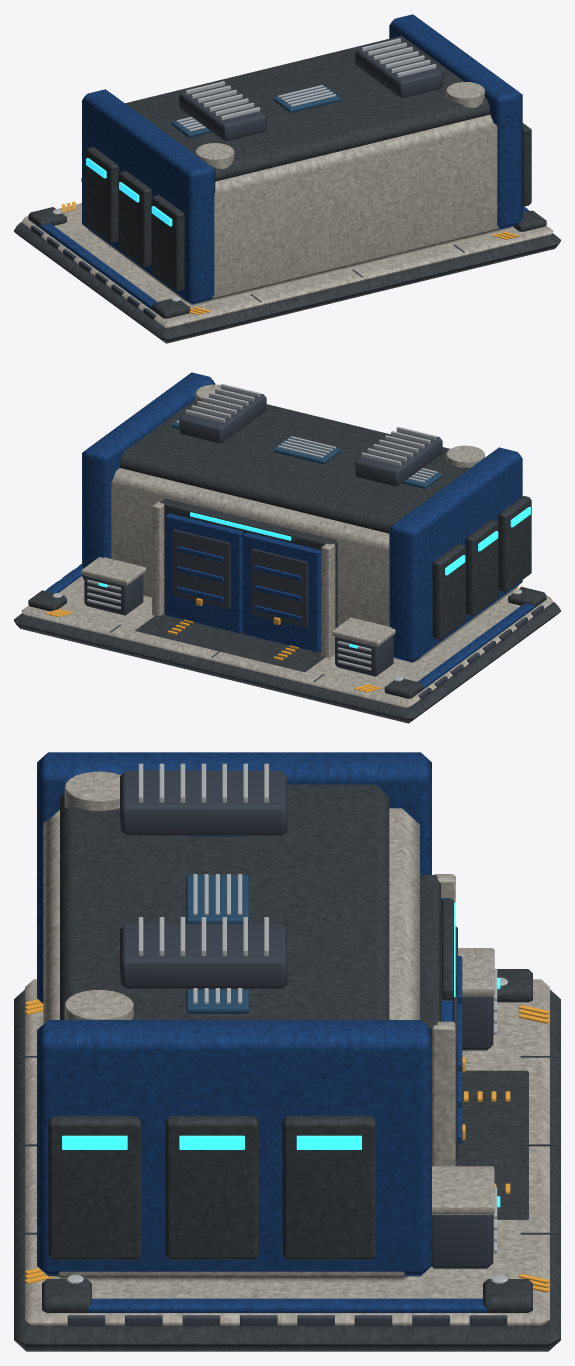
File: solis_usine_d_assemblage.gltf
The picture shows the model from 3 angles, top to bottom: view 1: azimuth 30°, elevation 25°; view 2: azimuth 150°, elevation 25°; view 3: azimuth 270°, elevation 25°; orthographic projection. The views are drawn at different scales.
Visible parts, largest first — view 1: Building.004_Geometry; view 2: Building.004_Geometry, Door_0_L.003_Geometry, Door_0_R.003_Geometry; view 3: Building.004_Geometry, Door_0_R.003_Geometry.
Boxes of the visible parts, left/top/right/bottom form: Building.004_Geometry: left=14, top=14, right=560, bottom=343; Building.004_Geometry: left=14, top=372, right=560, bottom=723; Door_0_L.003_Geometry: left=242, top=532, right=321, bottom=652; Door_0_R.003_Geometry: left=165, top=513, right=243, bottom=633; Building.004_Geometry: left=14, top=752, right=560, bottom=1351; Door_0_R.003_Geometry: left=441, top=966, right=465, bottom=1158.
Bounding box in the file's own units: 5.92 × 2.57 × 3.92.
Materials: 8 (3 with a texture image).
